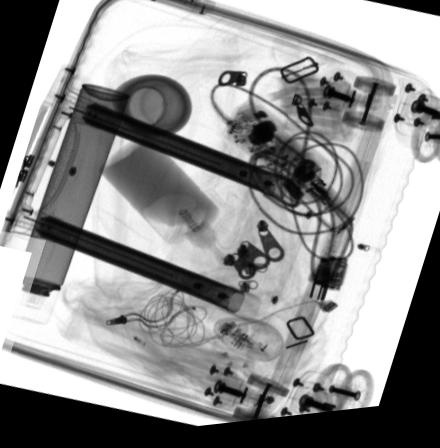Sprayer: (5, 85, 130, 325)
